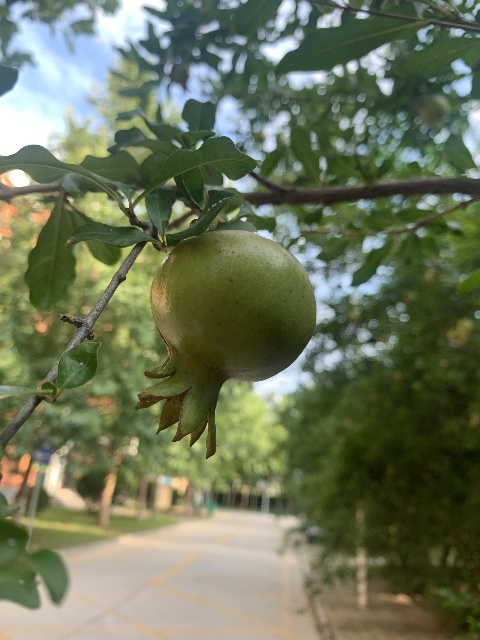mid-growth: (135, 228, 316, 458), (415, 94, 450, 133)
